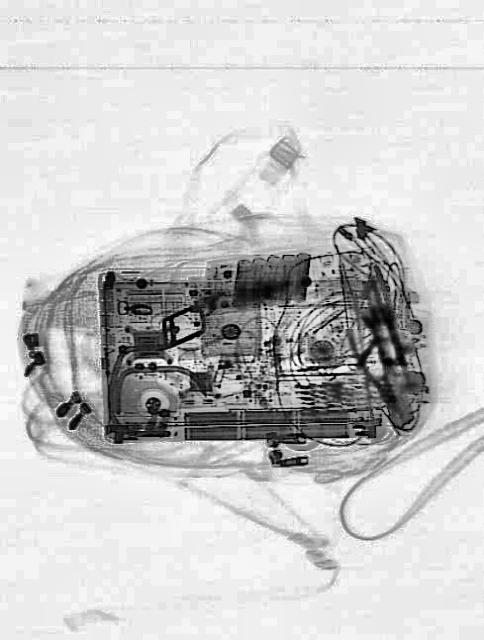Pliers: (340, 312, 416, 428)
